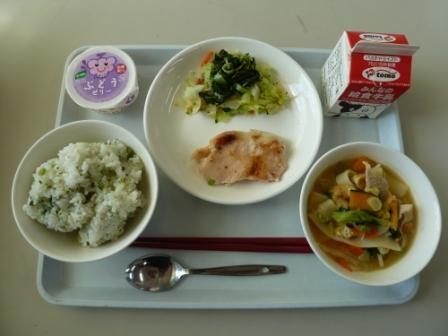Cup desserts: (60, 44, 142, 115)
Meat: (185, 129, 300, 195)
Milk: (330, 19, 424, 118)
Rice: (12, 131, 150, 259)
noodles soup: (300, 147, 439, 280)
salad with sauce: (176, 38, 287, 120)
